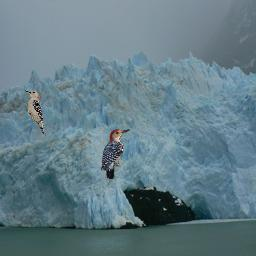Woodpecker: (101, 129, 130, 179), (24, 88, 46, 137)
